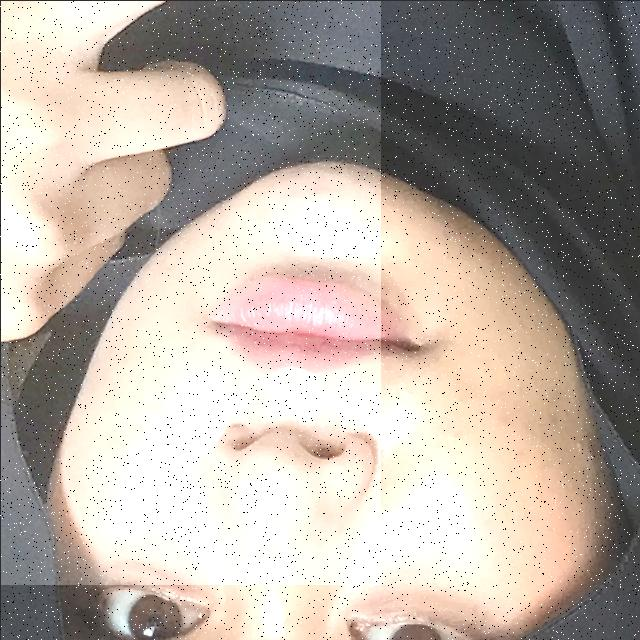telpon: (0, 0, 380, 584)
